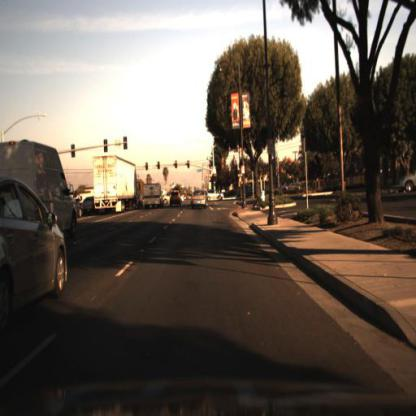car: (1, 173, 70, 308), (1, 135, 71, 199), (140, 181, 165, 213), (278, 180, 305, 198), (204, 184, 227, 205), (188, 188, 208, 210), (169, 188, 183, 210), (82, 195, 94, 220), (161, 191, 173, 207)
trafficLight-Red: (143, 161, 151, 175), (186, 155, 191, 170), (155, 158, 161, 170), (145, 162, 150, 174), (157, 163, 162, 175), (174, 158, 179, 170), (174, 160, 179, 172), (188, 161, 193, 173), (213, 171, 218, 182)
truck: (92, 150, 145, 221)
